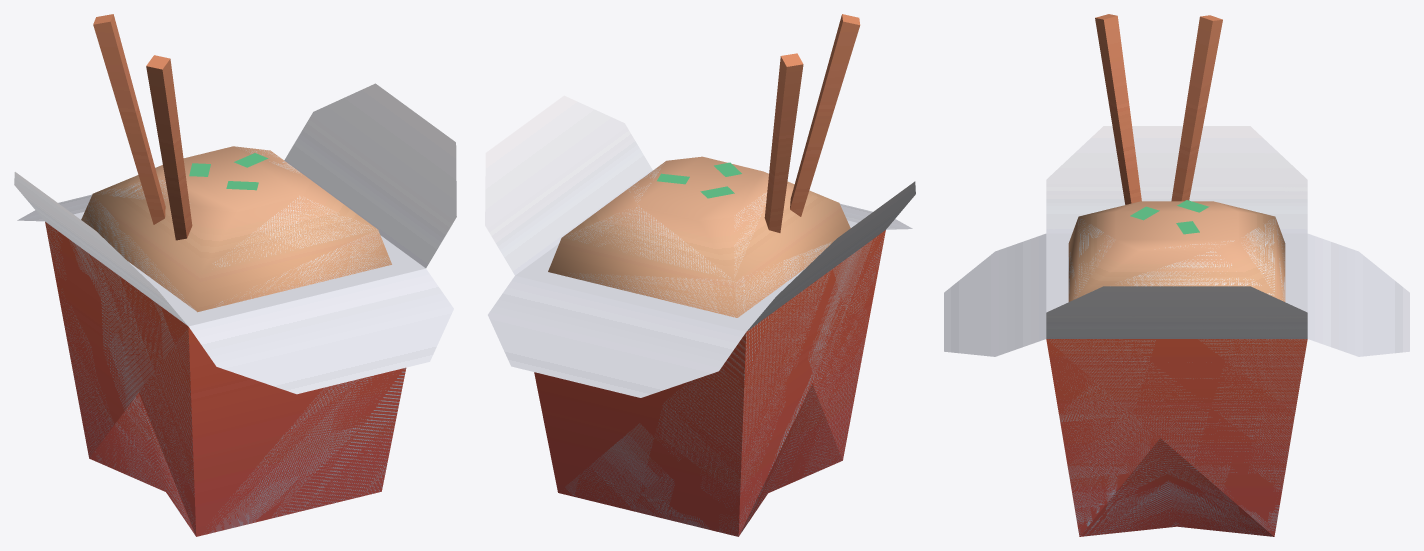
Rendered from chinese.glb.
3 views of the same model, side by side, from view 1: azimuth 30°, elevation 25°; view 2: azimuth 150°, elevation 25°; view 3: azimuth 270°, elevation 25° (orthographic). The views are drawn at different scales.
Visible parts, largest first — view 1: chinese, chopstick (×2); view 2: chinese, chopstick (×2); view 3: chinese, chopstick (×2).
Part boxes in pixels (x1,y1,x2,y2): chinese: [14, 83, 456, 536]; chopstick (×2): [93, 14, 192, 240]; chinese: [485, 95, 915, 536]; chopstick (×2): [764, 14, 860, 232]; chinese: [944, 126, 1409, 536]; chopstick (×2): [1095, 14, 1222, 204].
Size of the model in its own units: 0.4539 by 0.5671 by 0.5575.
Materials: 1 (1 with a texture image).
